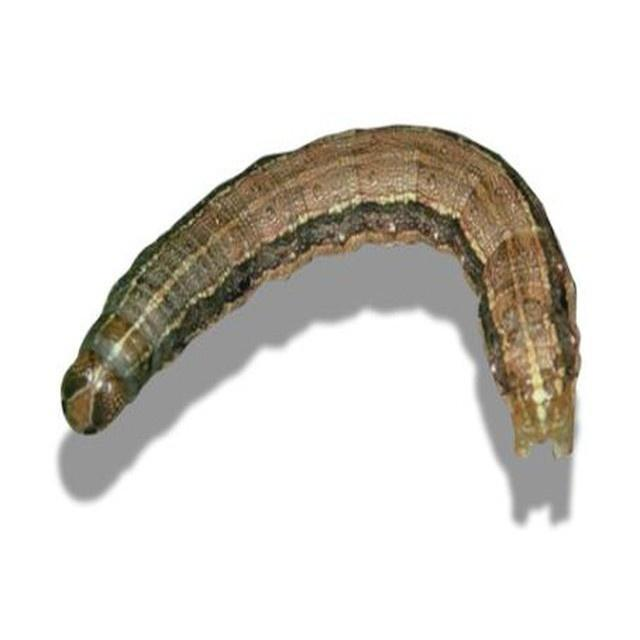yellow-stem-borer-larva: (52, 96, 626, 469)
